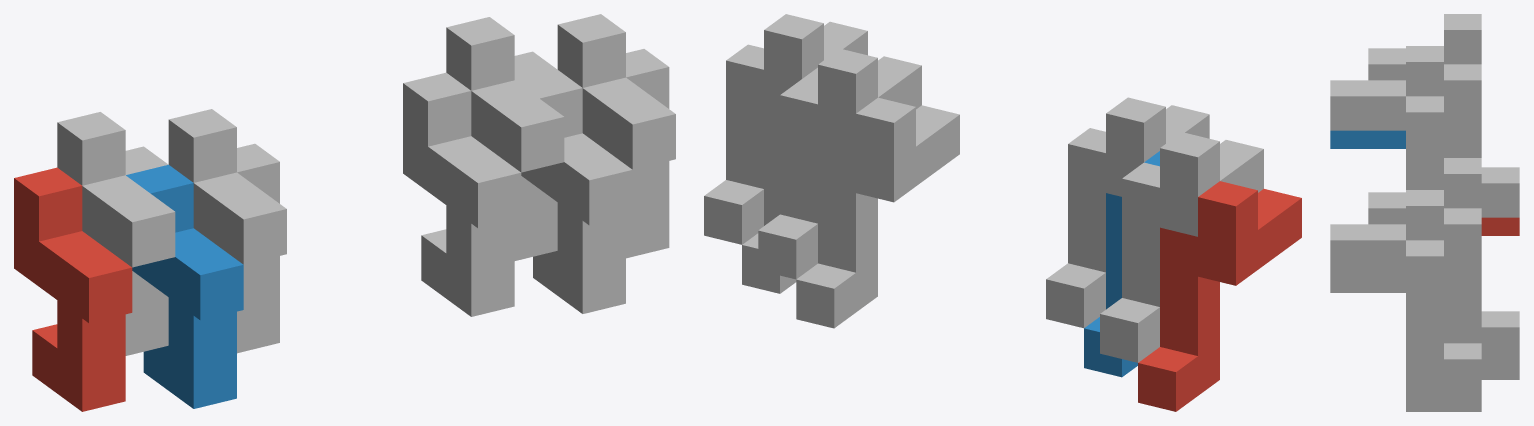
The model's file is tiling.obj.
3 renders of one model, left to right at view 1: azimuth 30°, elevation 25°; view 2: azimuth 150°, elevation 25°; view 3: azimuth 270°, elevation 25°, orthographic. The views are drawn at different scales.
Visible parts, largest first — view 1: copy_1_domain_1, copy_1_domain_5, copy_1_domain_8, copy_1_domain_4, copy_1_domain_2, copy_1_domain_6, copy_1_domain_7, copy_1_domain_3; view 2: copy_1_domain_5, copy_1_domain_1, copy_1_domain_7, copy_1_domain_3, copy_1_domain_8, copy_1_domain_4, copy_1_domain_6, copy_1_domain_2; view 3: copy_1_domain_8, copy_1_domain_7, copy_1_domain_4, copy_1_domain_3, copy_1_domain_6, copy_1_domain_2, copy_1_domain_1, copy_1_domain_5.
Part boxes in pixels (left/top/right/bottom): copy_1_domain_1: left=14, top=167, right=132, bottom=411; copy_1_domain_5: left=403, top=72, right=521, bottom=316; copy_1_domain_8: left=557, top=14, right=675, bottom=258; copy_1_domain_4: left=168, top=109, right=286, bottom=353; copy_1_domain_2: left=126, top=164, right=243, bottom=408; copy_1_domain_6: left=515, top=70, right=632, bottom=313; copy_1_domain_7: left=446, top=17, right=564, bottom=260; copy_1_domain_3: left=57, top=112, right=175, bottom=355; copy_1_domain_5: left=796, top=97, right=959, bottom=328; copy_1_domain_1: left=1138, top=181, right=1301, bottom=411; copy_1_domain_7: left=758, top=48, right=921, bottom=279; copy_1_domain_3: left=1100, top=132, right=1263, bottom=362; copy_1_domain_8: left=704, top=14, right=867, bottom=244; copy_1_domain_4: left=1046, top=97, right=1209, bottom=328; copy_1_domain_6: left=742, top=67, right=817, bottom=293; copy_1_domain_2: left=1084, top=151, right=1159, bottom=377; copy_1_domain_8: left=1330, top=190, right=1481, bottom=393; copy_1_domain_7: left=1368, top=158, right=1519, bottom=361; copy_1_domain_4: left=1330, top=46, right=1443, bottom=189; copy_1_domain_3: left=1368, top=14, right=1519, bottom=217; copy_1_domain_6: left=1330, top=274, right=1481, bottom=411; copy_1_domain_2: left=1330, top=130, right=1405, bottom=148; copy_1_domain_1: left=1481, top=217, right=1519, bottom=235; copy_1_domain_5: left=1481, top=361, right=1519, bottom=379.
Bounding box in the file's own units: 14 × 6 × 5.
